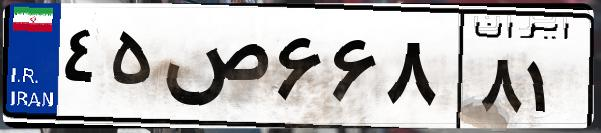1: (525, 38, 570, 115)
4: (57, 26, 110, 100)
5: (110, 28, 158, 98)
6: (270, 28, 330, 110), (330, 28, 385, 110)
8: (385, 28, 445, 110), (475, 38, 525, 113)
ص: (158, 20, 270, 120)
